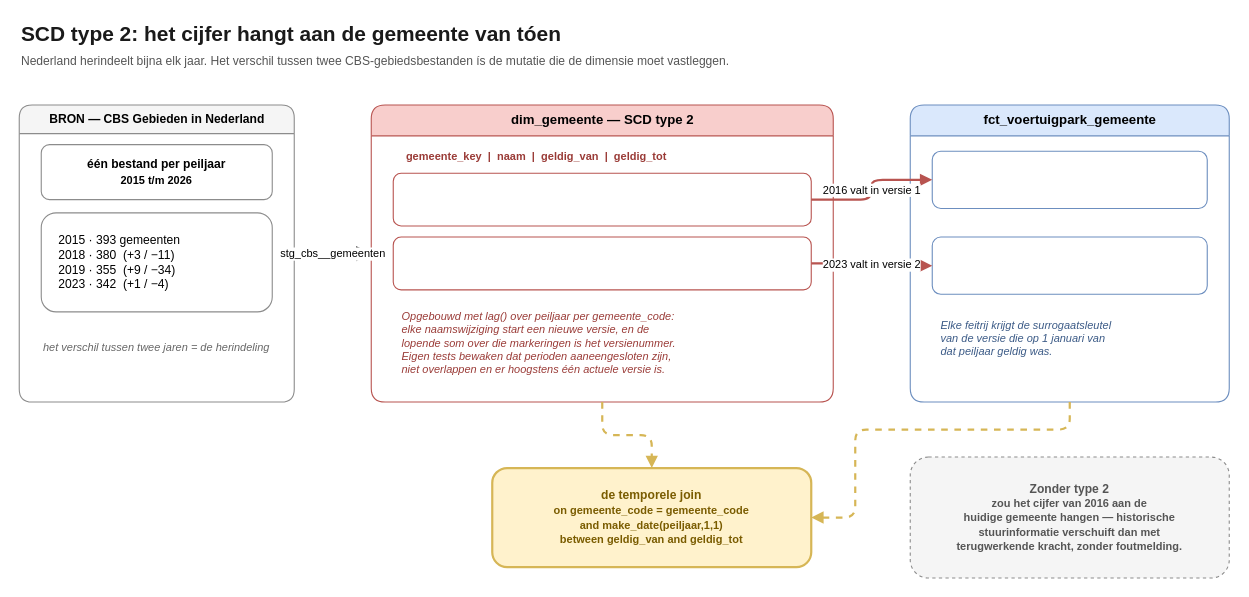
The diagram is 1249 pixels wide and 597 high, and some of its shapes have lost their labels. Each missing label, with the centre of its shape:
peiljaar 2016 aantal personenauto's: the point at 1069,179
peiljaar 2023 aantal personenauto's: the point at 1069,265
versie 1 Haaren 2015-01-01 → 2020-12-31: the point at 601,199
versie 2 Oisterwijk 2021-01-01 → 9999-12-31: the point at 601,263
